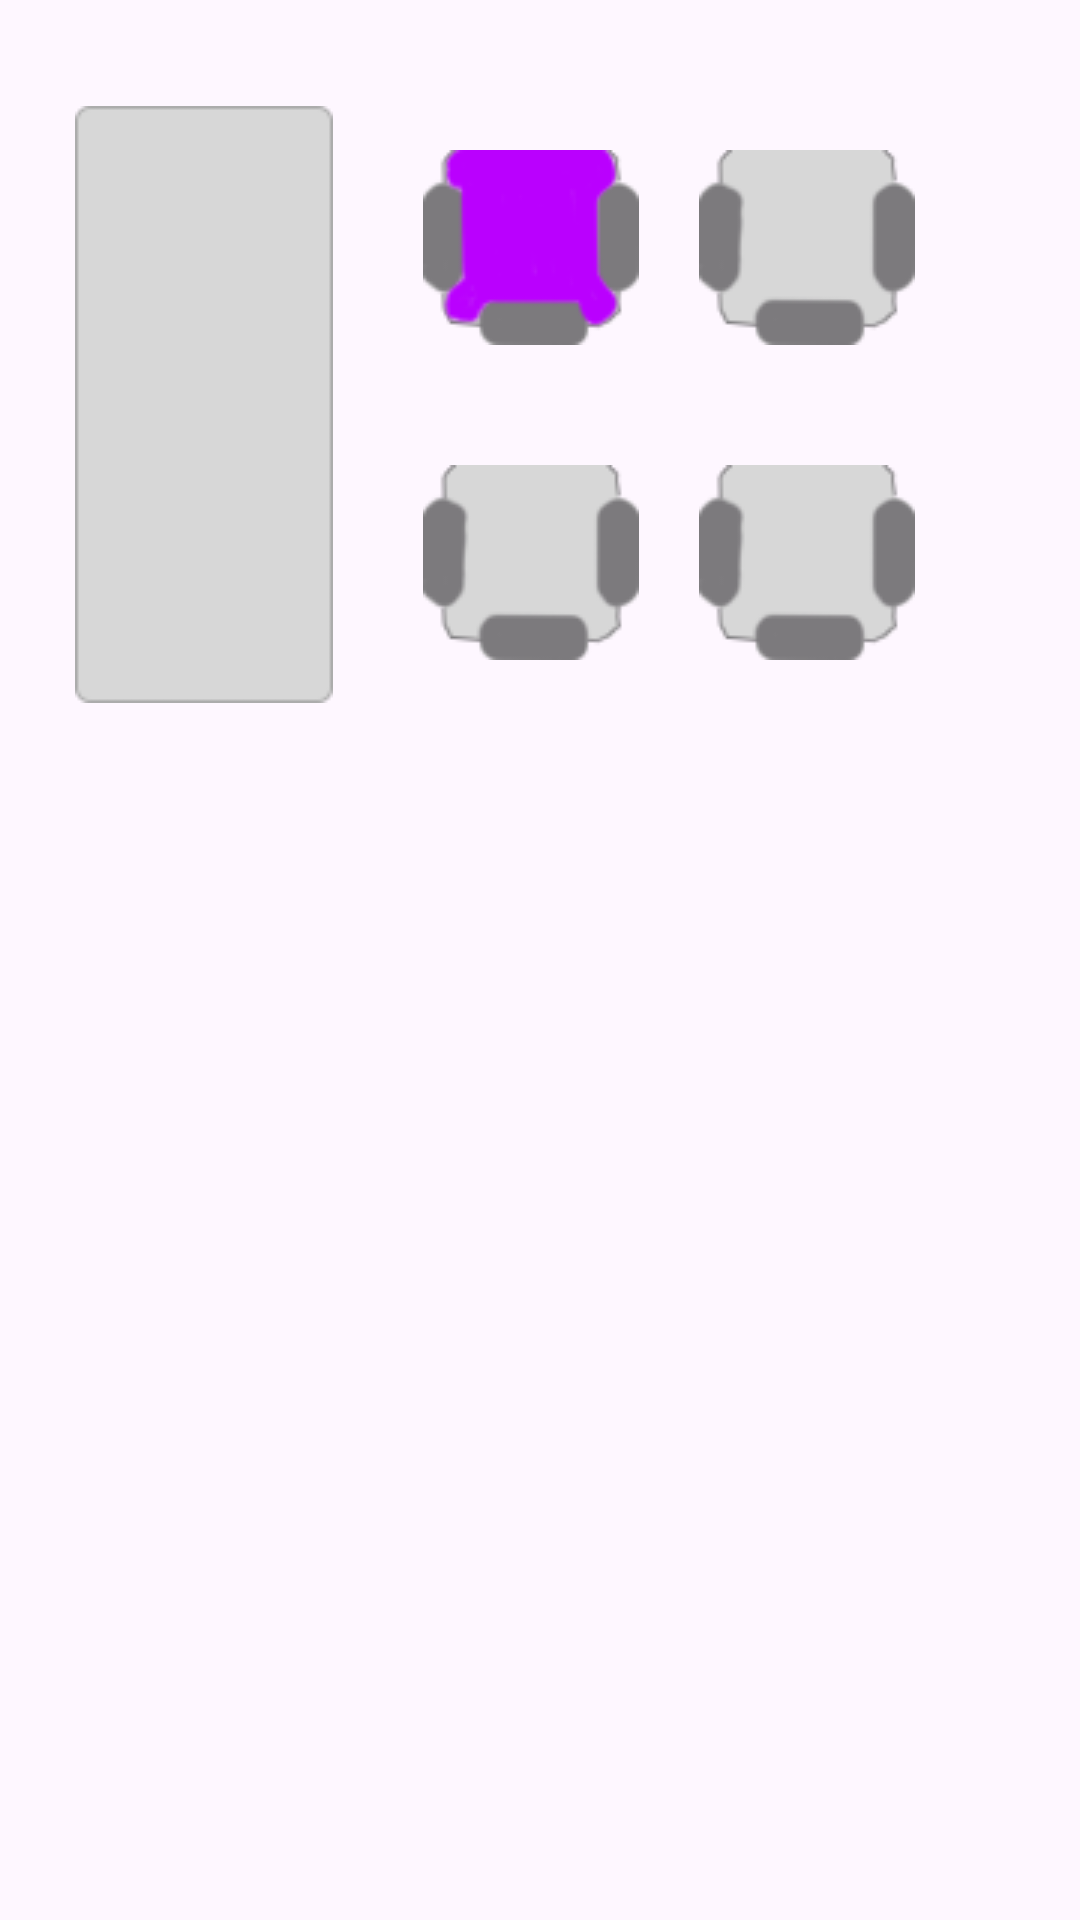

Screen size 1080*1920. Icon name, then its center in pixels as (x=x, y=y):
seat: (x=531, y=247)
